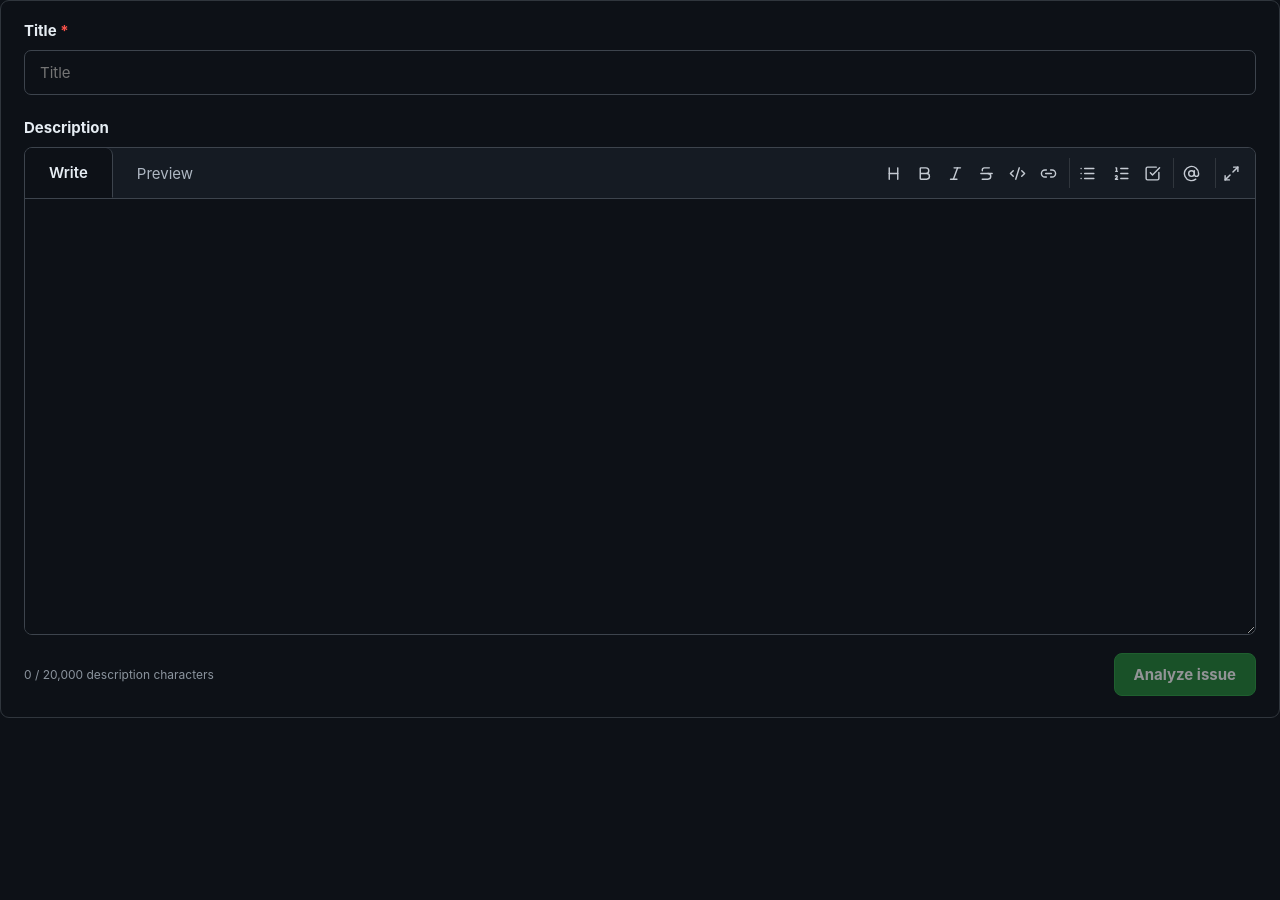
IssueEditor › inserts bold Markdown around selected text
The width and height of the screenshot is (1280, 900).
In the text box named "issue description in markdown": (640, 416) top-left (25, 199), bottom-right (1255, 634), type "Important bug"
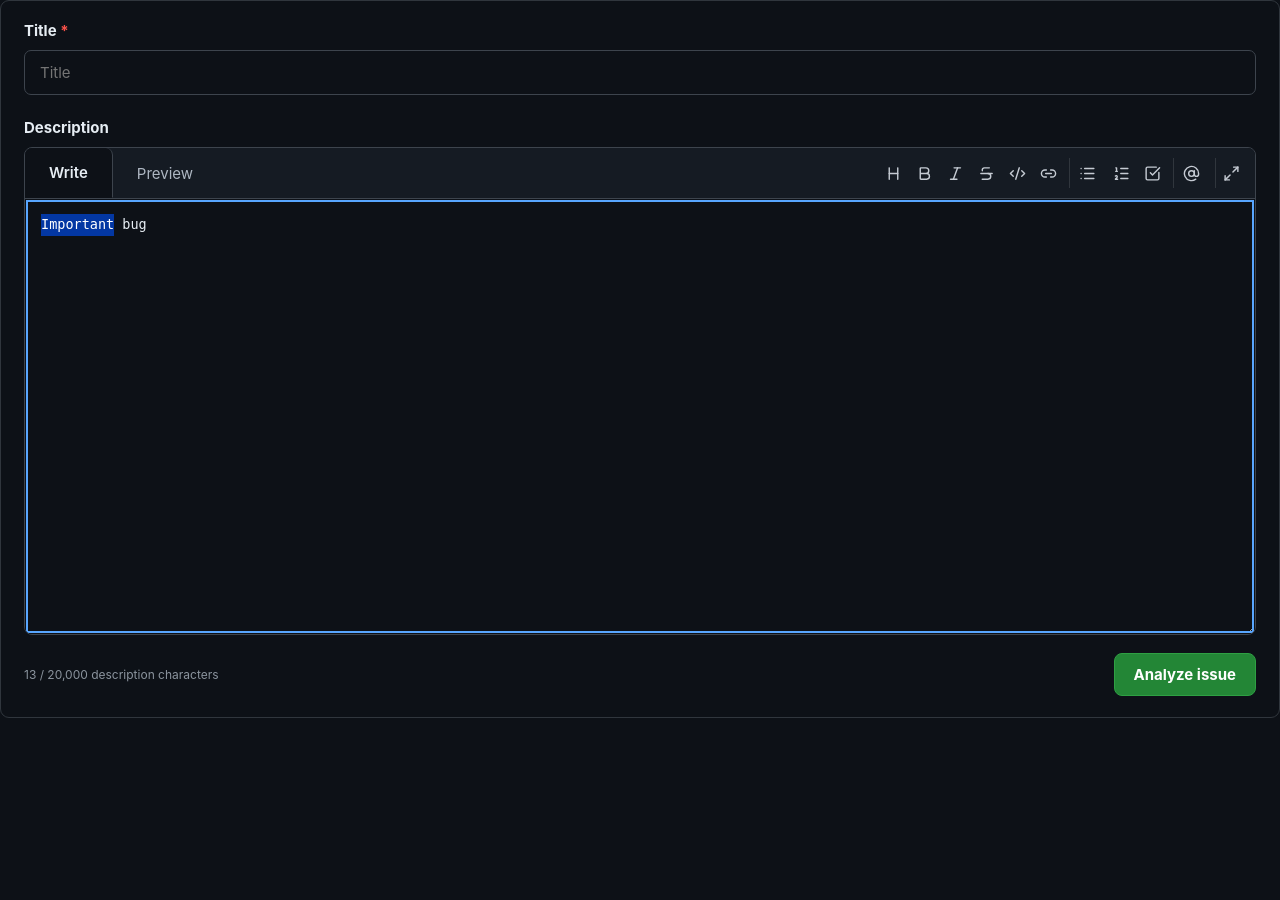
Click the button named "Bold": (924, 173) top-left (909, 158), bottom-right (940, 188)
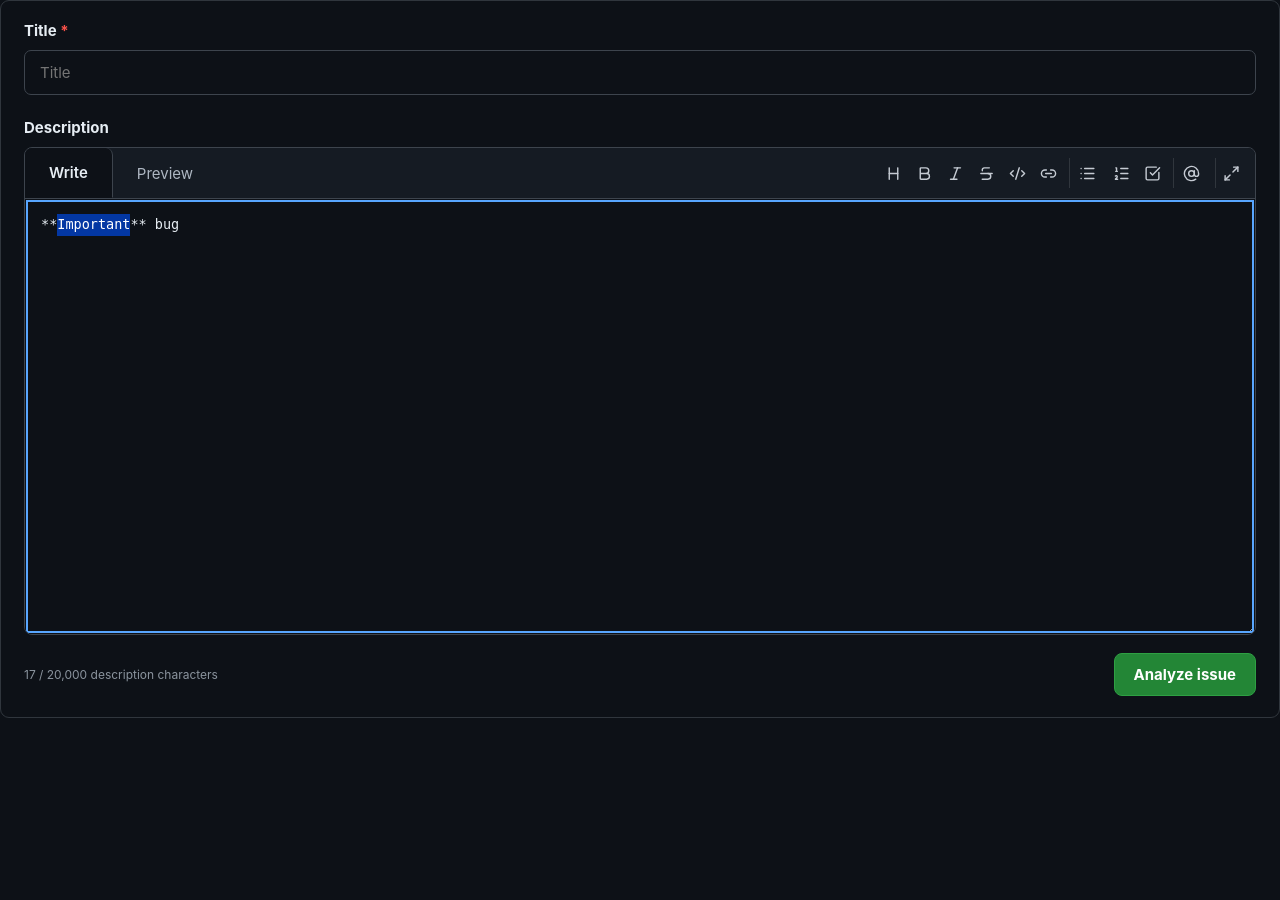
Result: the text box named "issue description in markdown" holds "**Important** bug" at top-left (25, 199), bottom-right (1255, 634)
